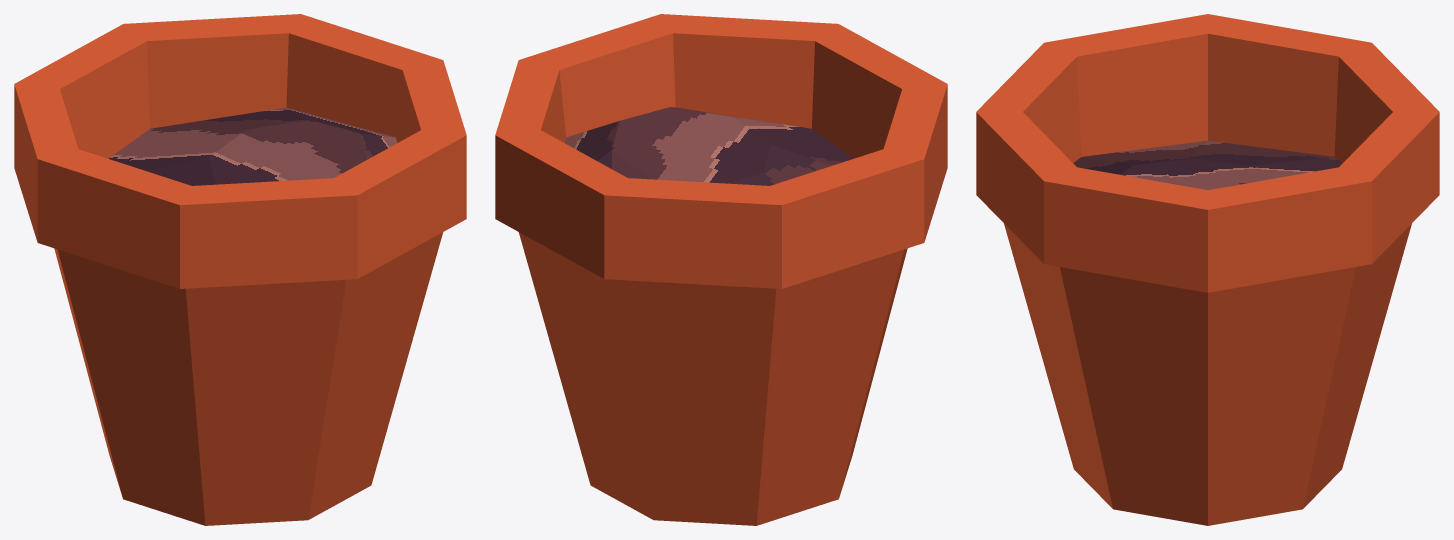
Rendered from pot.glb.
3 views of the same model, side by side, from view 1: azimuth 30°, elevation 25°; view 2: azimuth 150°, elevation 25°; view 3: azimuth 270°, elevation 25° (orthographic).
Parts seen in each view (by area): view 1: Pot; view 2: Pot; view 3: Pot.
Boxes of the visible parts, x1,y1,x2,y2 form: Pot: (14, 14, 466, 525); Pot: (495, 14, 947, 525); Pot: (976, 14, 1439, 525).
Size of the model in its own units: 1.27 by 1.08 by 1.27.
Materials: 2 (1 with a texture image).
